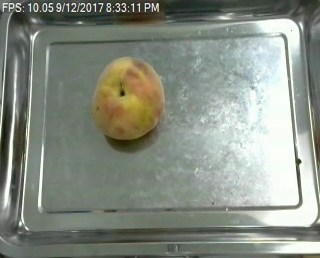Peach: (91, 55, 164, 140)
